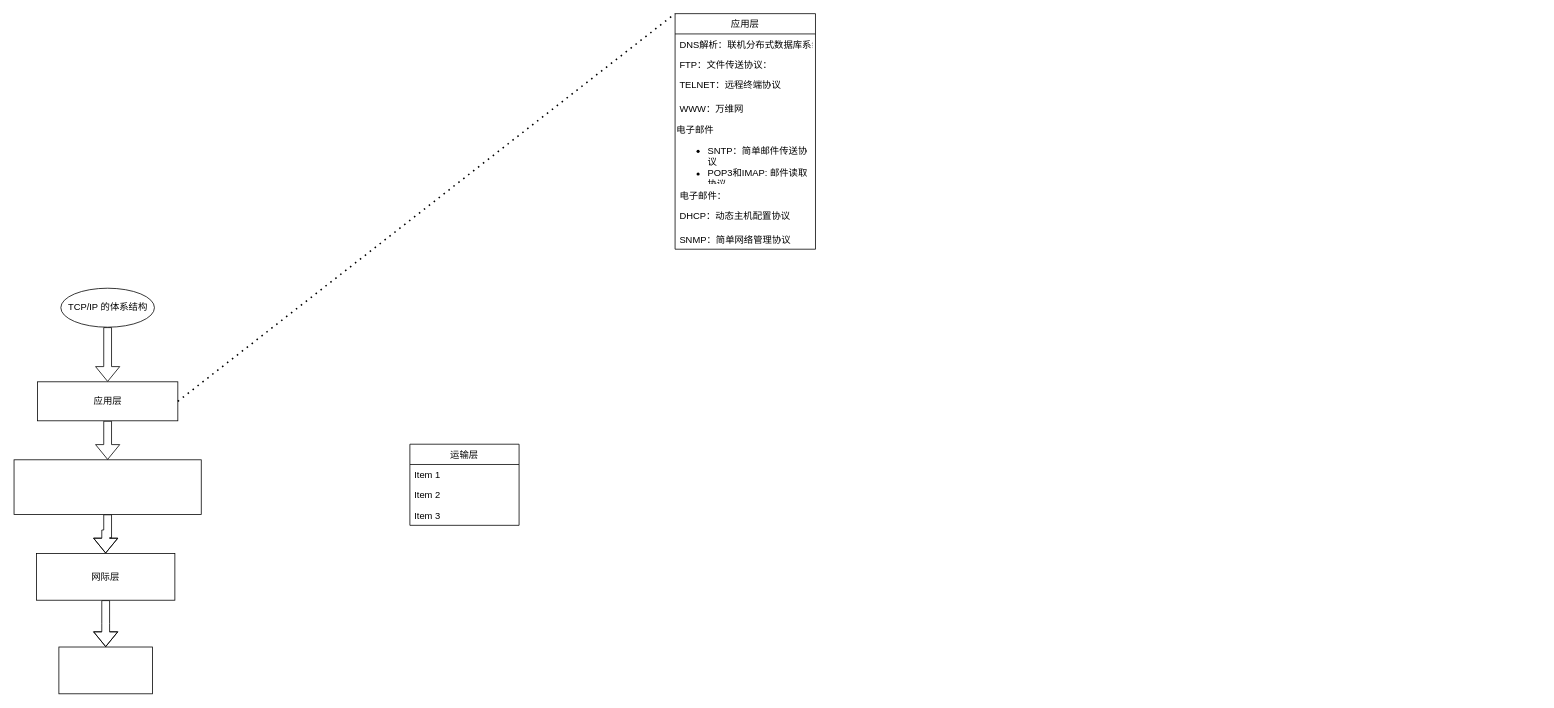
The diagram is 1554 pixels wide and 708 high, and some of its shapes have lost their labels. Here are the shapes that lost their labels. From the top down, the centre of each, then its label:
(x=107, y=486): 运输层 TCP：传输控制协议 UDP：用户数据报协议
(x=105, y=670): 网络接口层
